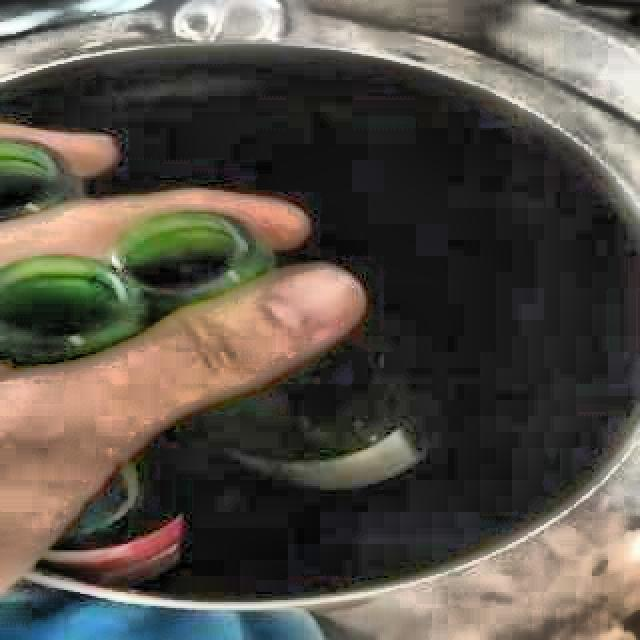glass: (0, 210, 277, 371), (197, 334, 419, 491), (40, 464, 181, 587), (0, 142, 83, 224)
